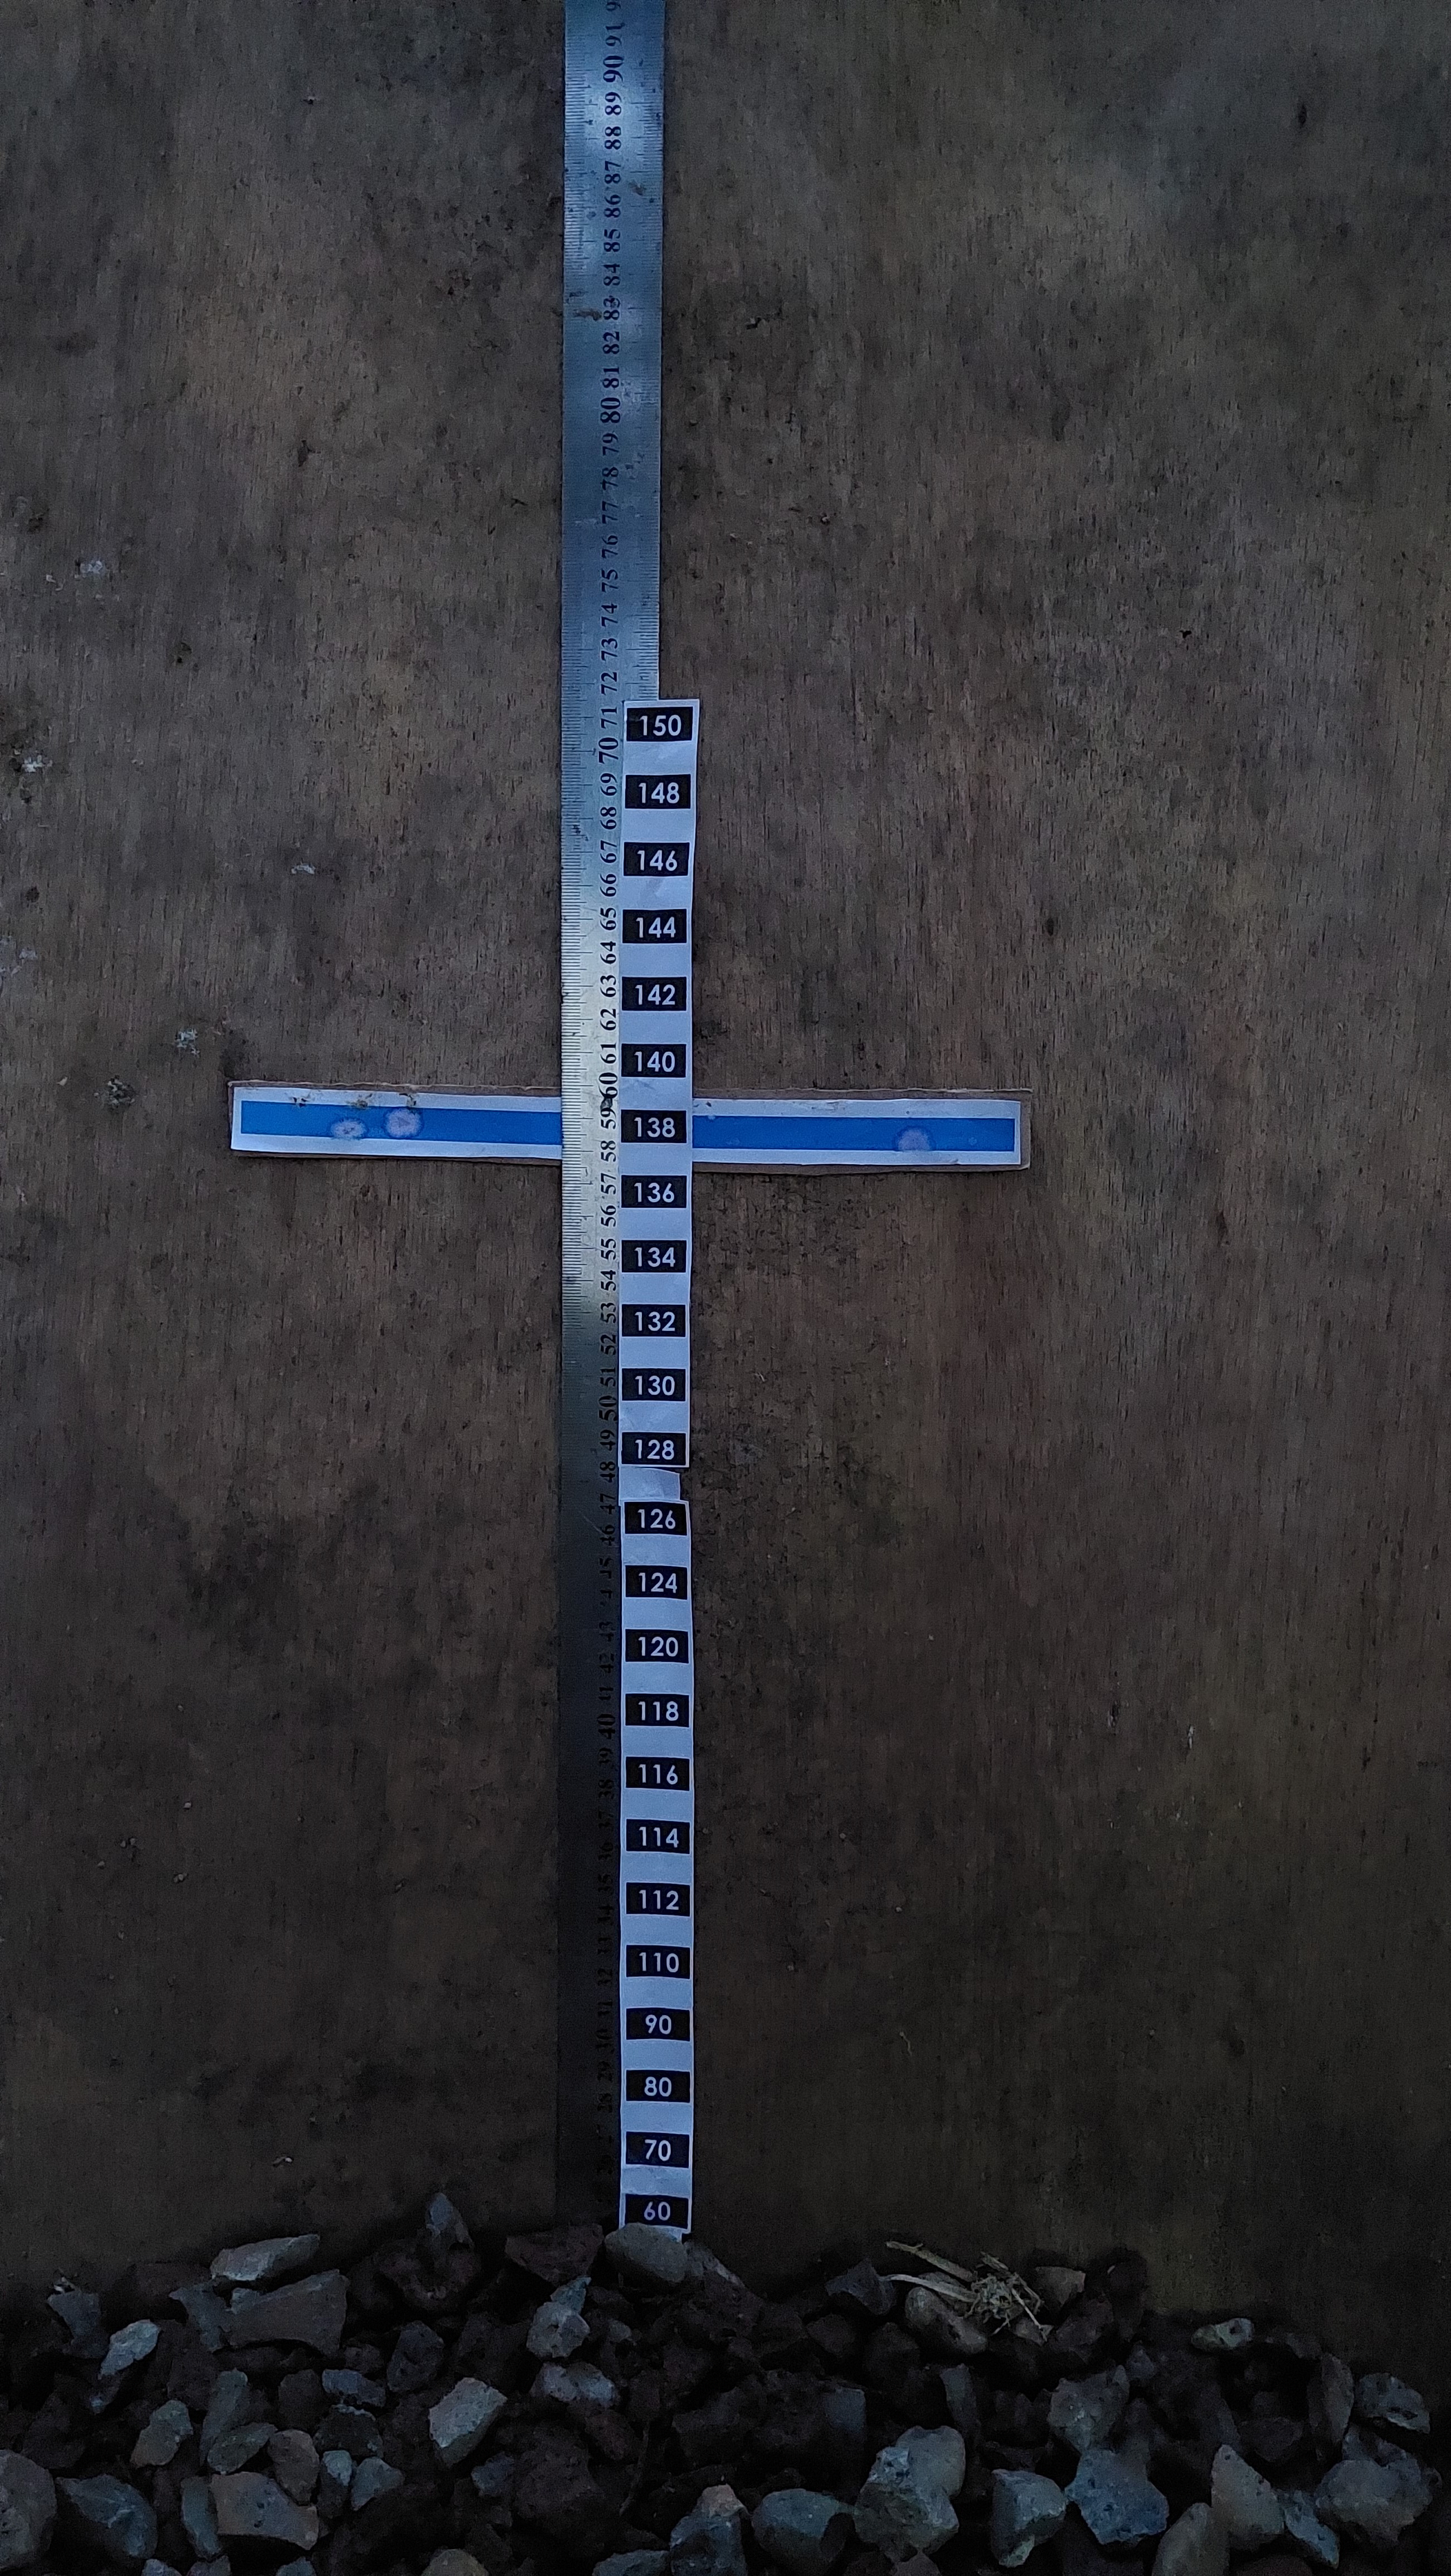kotak_2x1: (619, 1875, 694, 1923), (619, 902, 692, 950), (621, 1999, 694, 2047), (619, 1813, 694, 1859), (619, 2063, 694, 2109), (623, 1937, 694, 1985), (621, 1750, 694, 1796), (619, 2125, 692, 2171), (621, 770, 695, 814), (619, 1622, 694, 1667), (619, 1104, 690, 1150), (619, 1497, 690, 1543), (618, 971, 690, 1016), (619, 1169, 692, 1214), (621, 1688, 694, 1732), (619, 839, 694, 881), (619, 1037, 690, 1081), (623, 704, 695, 747), (618, 1364, 690, 1407), (618, 1235, 692, 1276), (619, 1562, 692, 1603), (619, 2190, 692, 2229), (619, 1300, 688, 1341), (618, 1430, 690, 1467)
mal_biru_150: (234, 1092, 1025, 1166)
